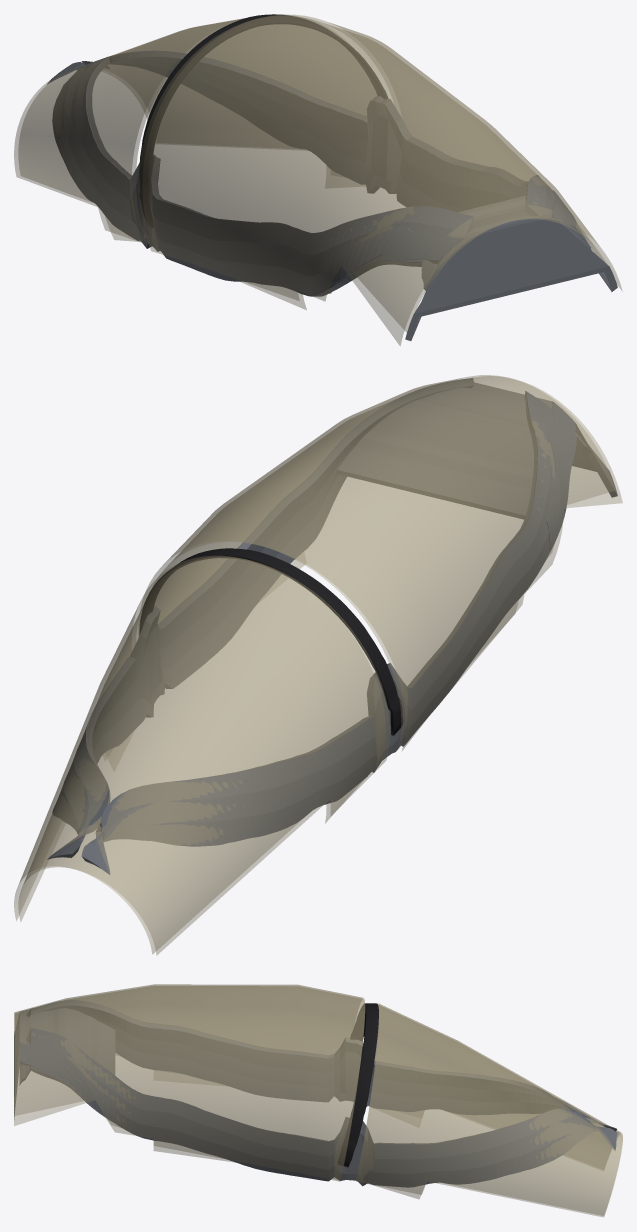
Rendered from canopy_frame.glb.
3 views of the same model, one above another, from view 1: azimuth 30°, elevation 25°; view 2: azimuth 150°, elevation 25°; view 3: azimuth 270°, elevation 25° (orthographic). The views are drawn at different scales.
Parts seen in each view (by area): view 1: canopy_glass, canopy_frame_ext, canopy_bow_ext; view 2: canopy_glass, canopy_frame_ext, canopy_bow_ext; view 3: canopy_glass, canopy_frame_ext, canopy_bow_ext.
Boxes of the visible parts, box(x1,y1,x2,y2) form: canopy_glass: box(14, 14, 622, 345); canopy_frame_ext: box(47, 51, 617, 340); canopy_bow_ext: box(139, 14, 387, 227); canopy_glass: box(14, 375, 622, 954); canopy_frame_ext: box(47, 378, 617, 874); canopy_bow_ext: box(139, 548, 403, 735); canopy_glass: box(14, 984, 622, 1217); canopy_frame_ext: box(14, 1000, 617, 1187); canopy_bow_ext: box(338, 1003, 378, 1167).
Bounding box in the file's own units: 1.14 × 1.19 × 3.25.
